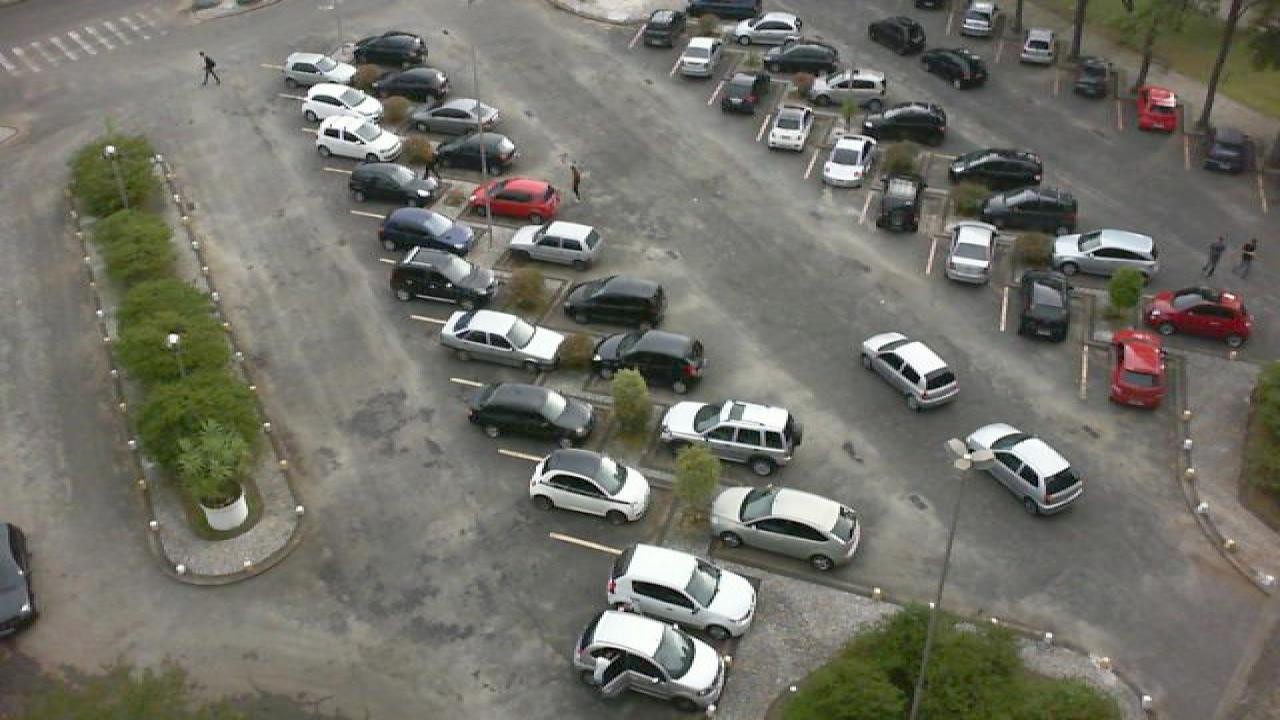Car: (602, 542, 758, 642), (574, 608, 728, 708), (710, 482, 864, 570), (658, 398, 806, 475), (528, 448, 652, 522), (468, 381, 598, 449), (588, 327, 708, 395), (440, 310, 568, 371), (388, 246, 498, 308), (560, 274, 668, 330), (1144, 287, 1256, 339), (1052, 228, 1162, 279), (376, 207, 478, 258), (1108, 326, 1168, 408), (508, 219, 604, 268), (310, 115, 406, 164), (982, 186, 1080, 232), (468, 176, 562, 222), (950, 148, 1046, 192), (1014, 270, 1072, 342), (348, 160, 438, 204), (430, 132, 520, 176), (864, 100, 952, 143), (942, 220, 1000, 284), (300, 83, 388, 125), (408, 98, 502, 136), (920, 45, 990, 89), (806, 70, 888, 107), (820, 136, 878, 188), (874, 176, 926, 234), (280, 50, 362, 86), (1198, 124, 1254, 176), (372, 66, 450, 103), (352, 32, 428, 68), (762, 40, 844, 72), (1132, 82, 1182, 134), (732, 11, 806, 45), (766, 103, 816, 152), (870, 16, 928, 56), (718, 70, 764, 114), (674, 36, 722, 78), (638, 8, 684, 48), (1070, 56, 1110, 100), (1018, 27, 1060, 65), (688, 0, 762, 21), (958, 0, 996, 38)
